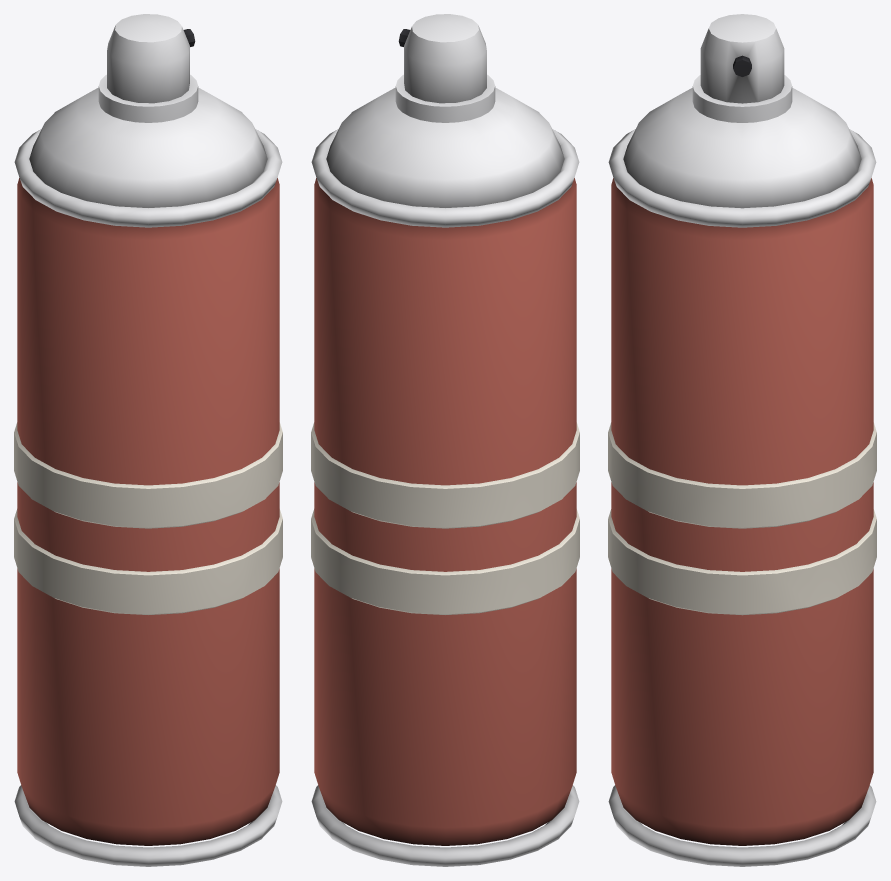
Rendered from spray.glb.
The picture shows the model from 3 angles, left to right: view 1: azimuth 30°, elevation 25°; view 2: azimuth 150°, elevation 25°; view 3: azimuth 270°, elevation 25°; orthographic projection.
Visible parts, largest first — view 1: PART; view 2: PART; view 3: PART.
Part boxes in pixels (bbox=[...]): PART: bbox=[14, 14, 282, 866]; PART: bbox=[311, 14, 579, 866]; PART: bbox=[608, 14, 876, 866].
Bounding box in the file's own units: 0.0676 × 0.219 × 0.0676.
